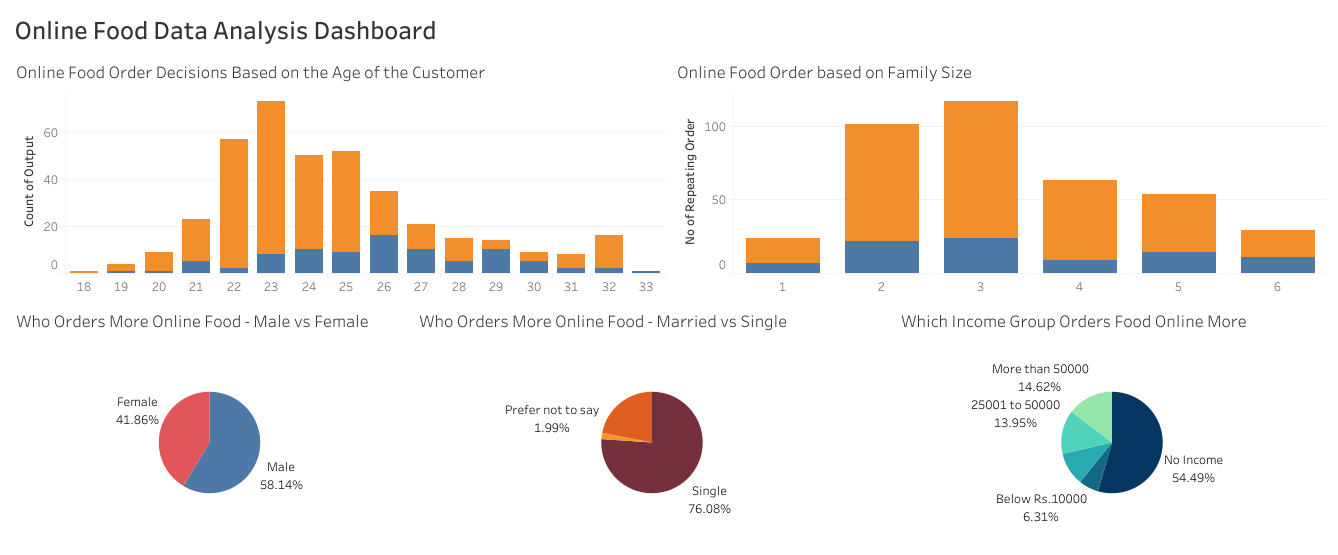

What the dashboard file says about the page in this screenshot:
{"tool":"tableau","page":{"name":"Dashboard 1","canvas":[1000,1000],"units":"permille","ordinal":0},"visuals":[{"type":"worksheet","title":"Online Food Order Decisions Based on the Age of the Customer","mark":"Automatic","rows":["Output"],"cols":["Age (bin)"],"box":[6.9,12.7,493.1,487.3]},{"type":"worksheet","title":"Online Food Order based on Family Size","mark":"Automatic","rows":["Output"],"cols":["Family size (bin)"],"box":[500,12.7,493.1,487.3]},{"type":"worksheet","title":"Who Orders More Online Food - Male vs Female","mark":"Pie","box":[6.9,500,300.4,487.3]},{"type":"worksheet","title":"Who Orders More Online Food - Married vs Single","mark":"Pie","box":[307.4,500,359.3,487.3]},{"type":"worksheet","title":"Which Income Group Orders Food Online More","mark":"Pie","box":[666.7,500,326.4,487.3]}]}

Visuals, with their boxes on the dashboard's canvas, which has no fixed pixel size, in thousandths of its width and height (x1, y1, x2, y2). These are canvas units, not pixel positions in the 1338x555 screenshot, which may show the page scaled, cropped or inside an application window:
"Online Food Order Decisions Based on the Age of the Customer" worksheet: box=[7, 13, 500, 500]
"Online Food Order based on Family Size" worksheet: box=[500, 13, 993, 500]
"Who Orders More Online Food - Male vs Female" worksheet (Pie marks): box=[7, 500, 307, 987]
"Who Orders More Online Food - Married vs Single" worksheet (Pie marks): box=[307, 500, 667, 987]
"Which Income Group Orders Food Online More" worksheet (Pie marks): box=[667, 500, 993, 987]
